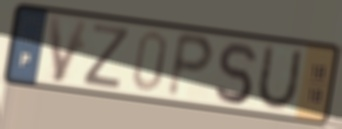0: (129, 29, 169, 95)
P: (164, 29, 217, 102)
S: (212, 39, 258, 107)
U: (252, 42, 305, 113)
V: (46, 14, 92, 86)
Z: (80, 21, 132, 92)
